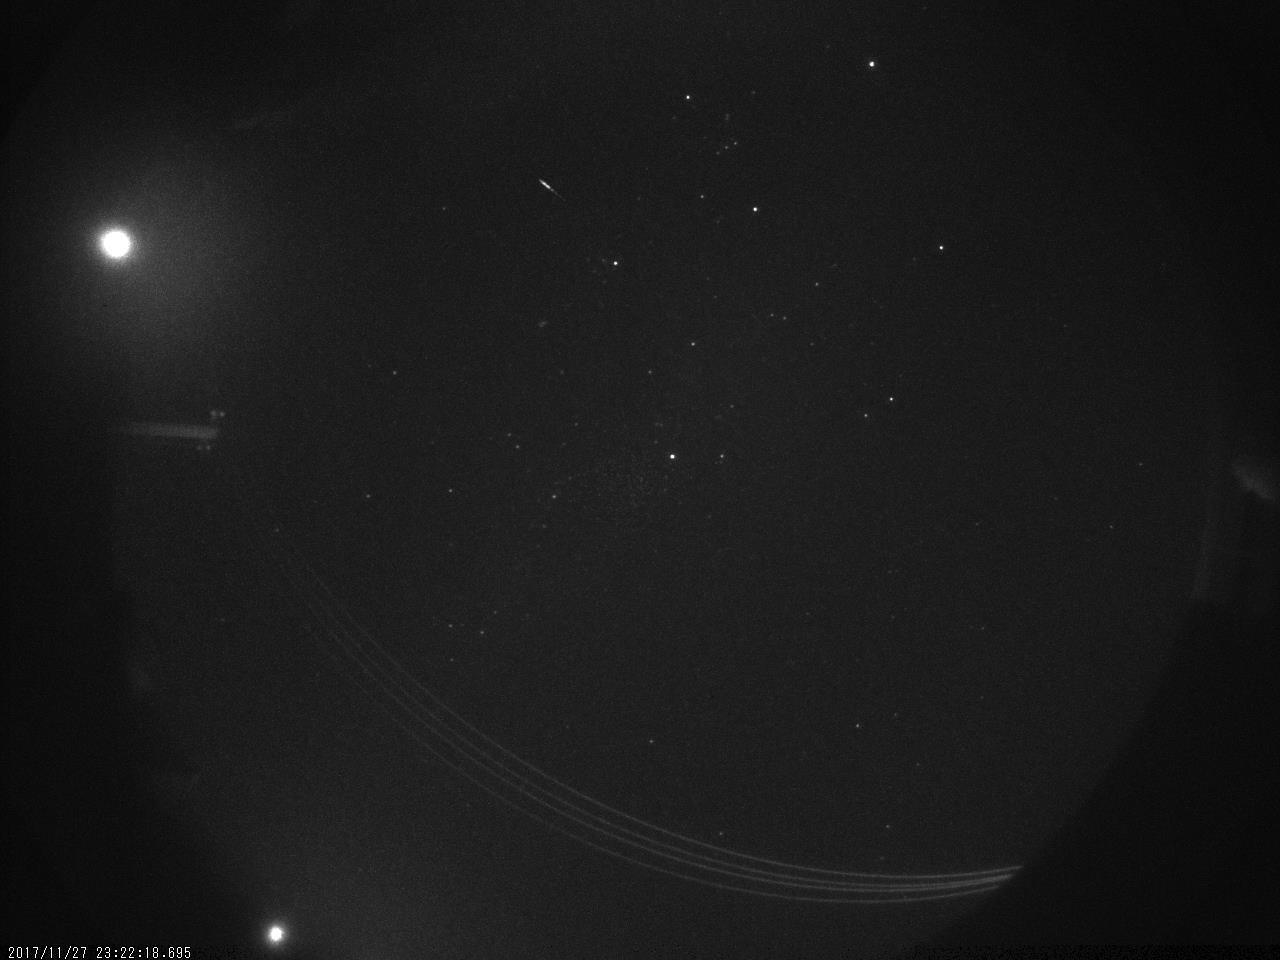Meteor: (535, 174, 562, 197)
